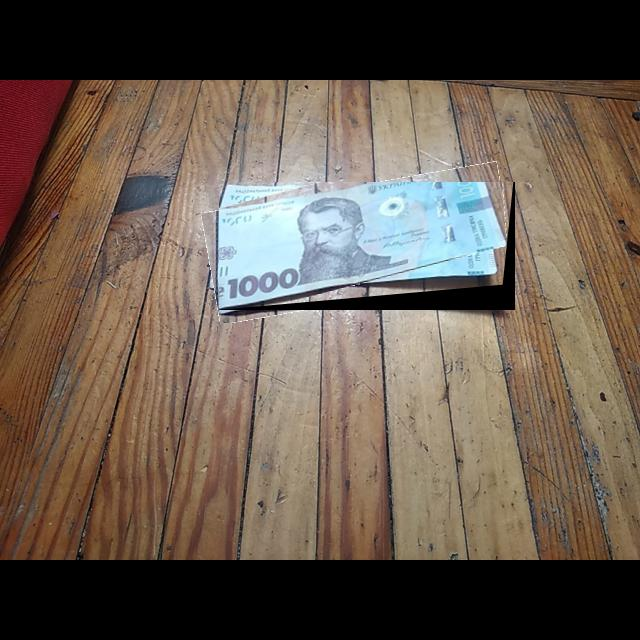1000uah: (219, 182, 509, 310)
